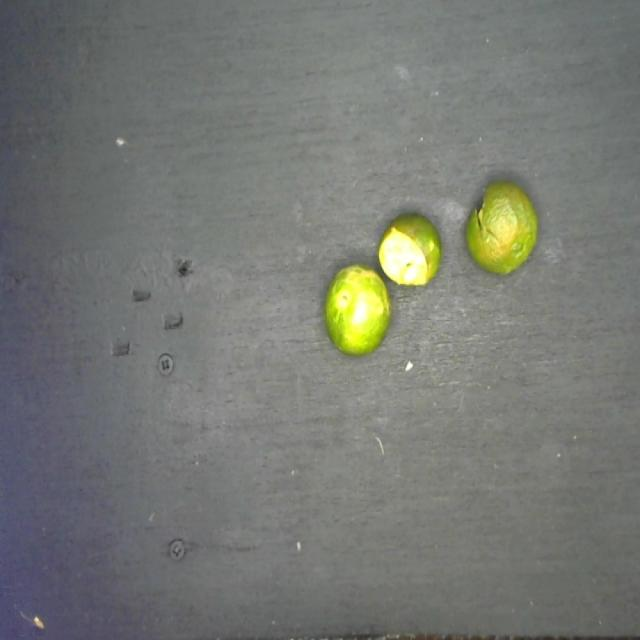biodegradable: (315, 165, 544, 359)
